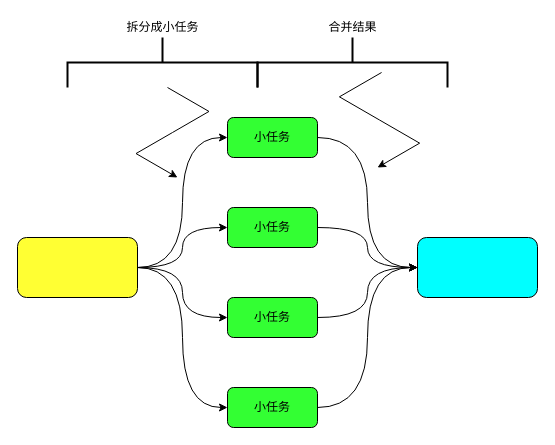
This 555x445 diagram has some shape labels left out. Here are the shapes that lost their labels. From the top down, the centre of each, then its label:
At [77,267]: "大任务".
At [477,267]: "结果".
